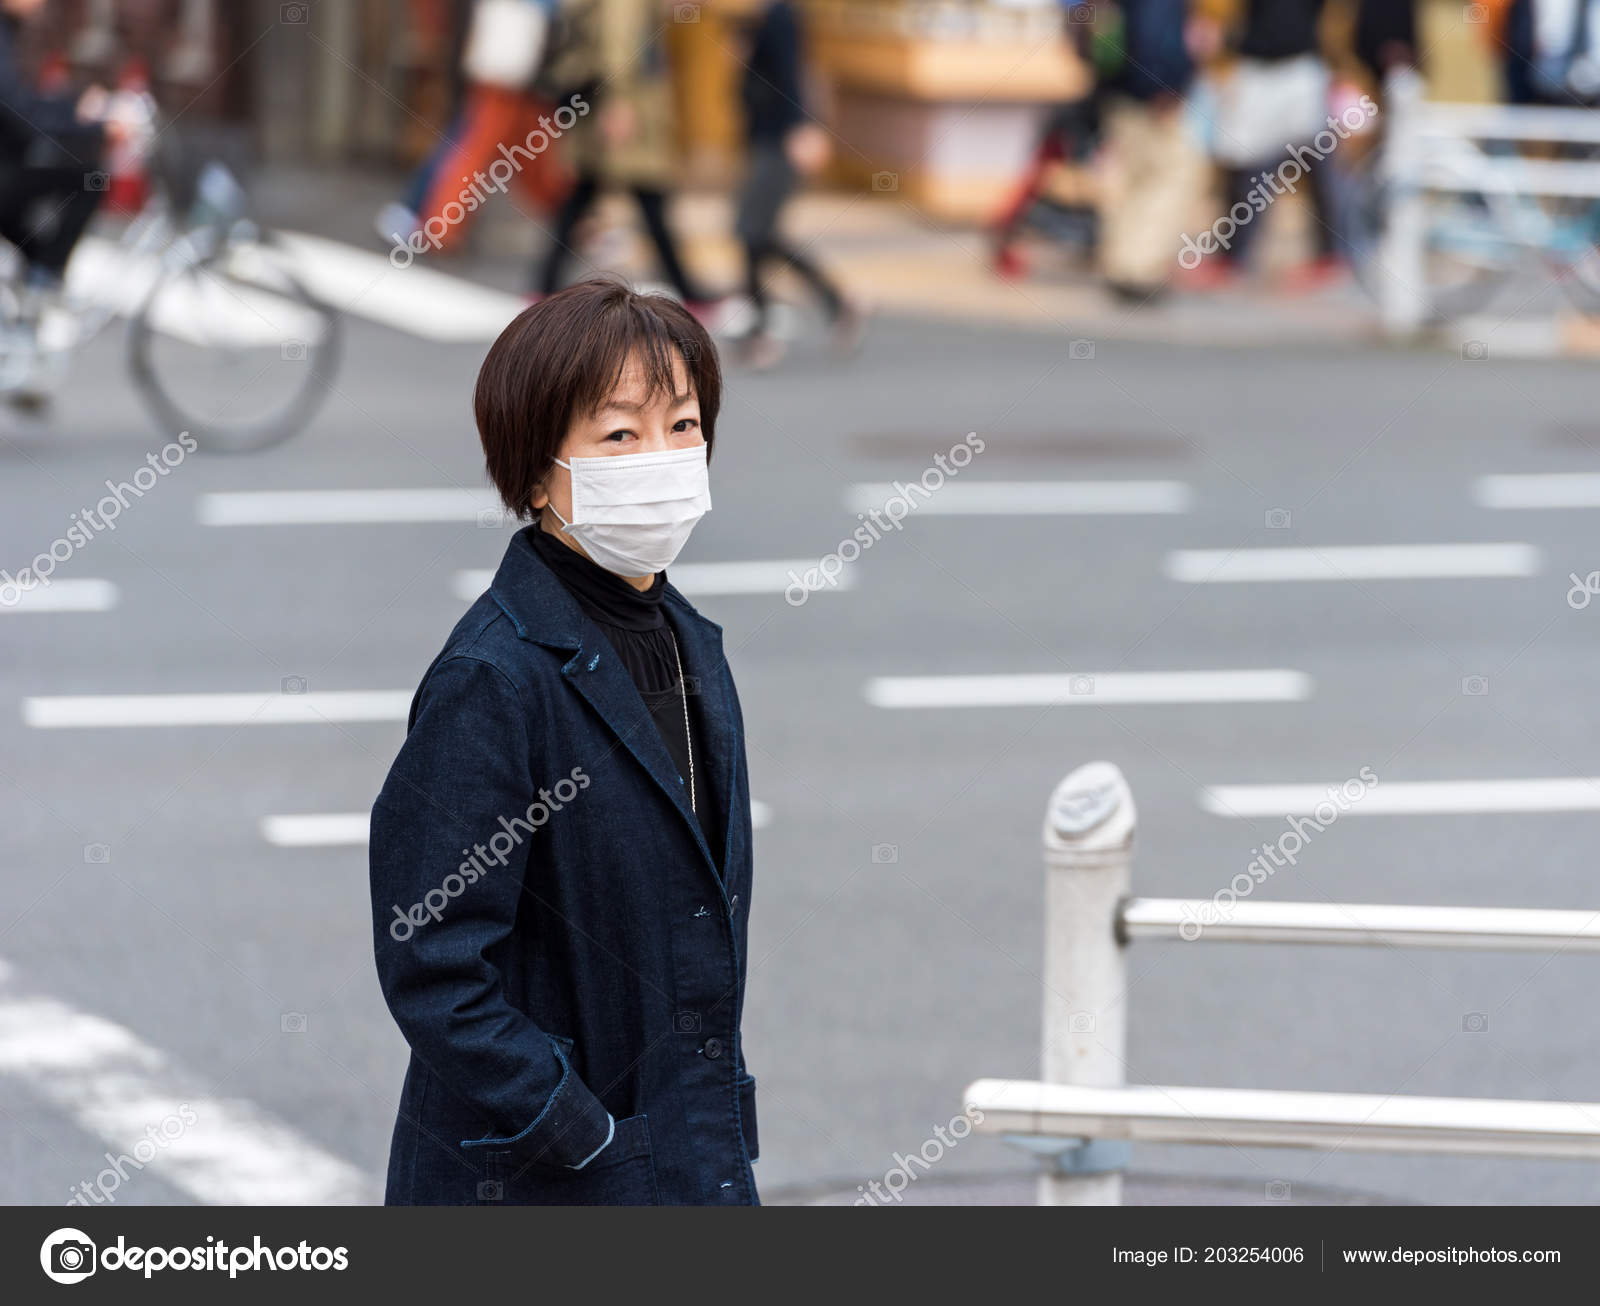mask: (563, 450, 714, 575)
